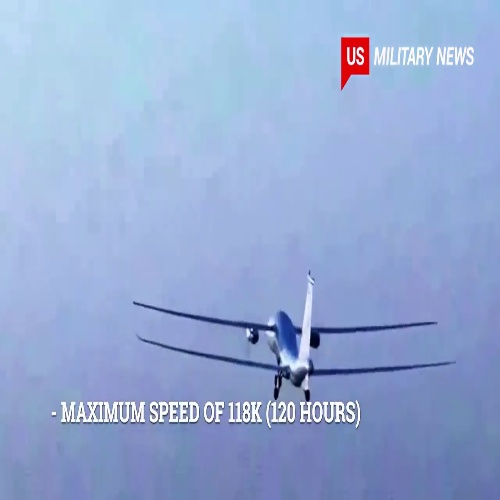uav: (129, 273, 460, 405)
